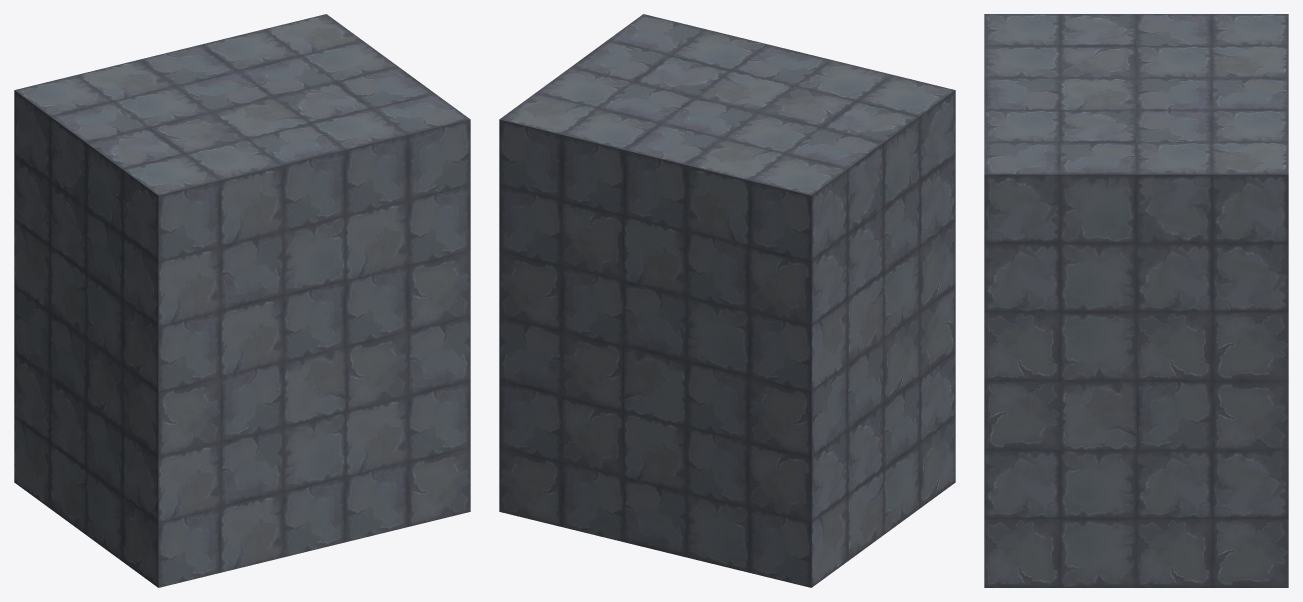
File: Castle Block 5x4x6.fbx
3 views of the same model, side by side, from view 1: azimuth 30°, elevation 25°; view 2: azimuth 150°, elevation 25°; view 3: azimuth 270°, elevation 25° (orthographic). The views are drawn at different scales.
Parts seen in each view (by area): view 1: Castle Block 5x4x6; view 2: Castle Block 5x4x6; view 3: Castle Block 5x4x6.
Boxes of the visible parts, <box> form: Castle Block 5x4x6: <box>14,14,470,587</box>; Castle Block 5x4x6: <box>499,14,955,587</box>; Castle Block 5x4x6: <box>984,14,1288,587</box>.
Bounding box in the file's own units: 3.75 × 4.5 × 3.
